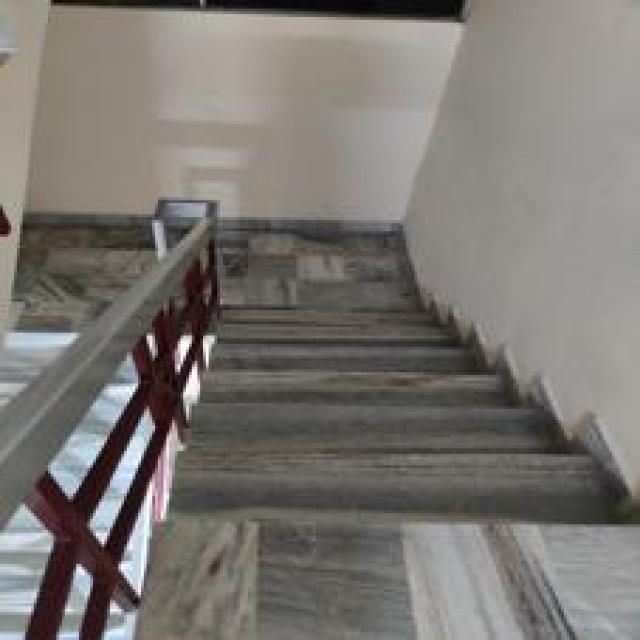downstair: (176, 385, 613, 557)
